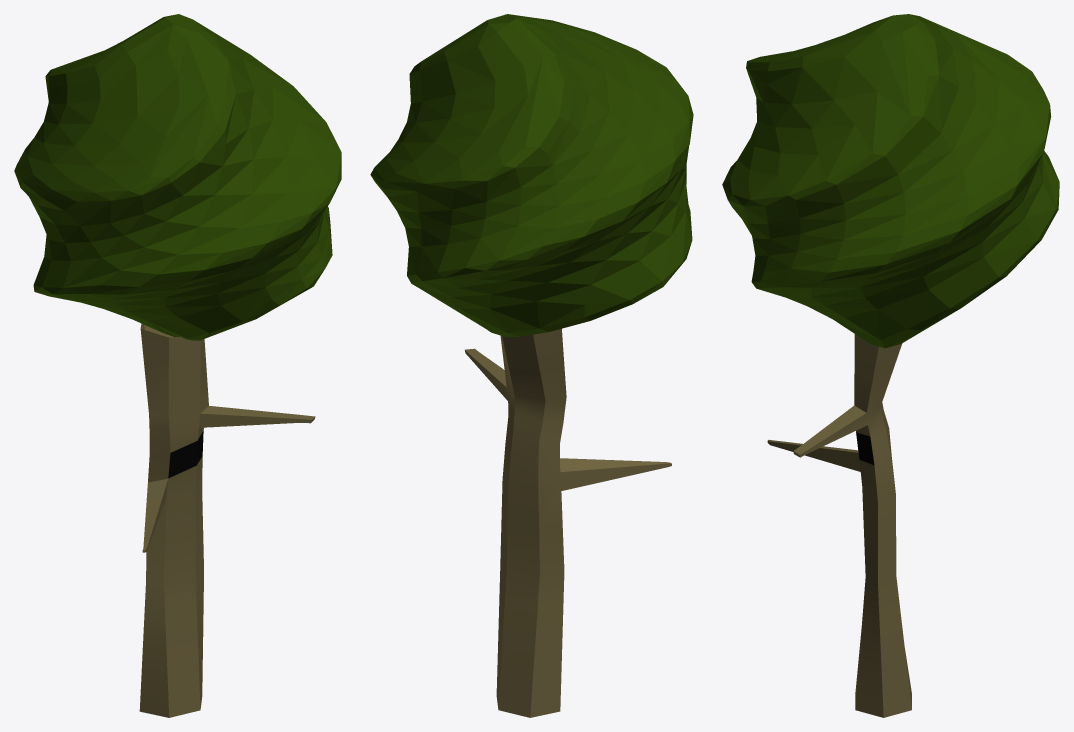
File: tree_1.fbx
3 renders of one model, left to right at view 1: azimuth 30°, elevation 25°; view 2: azimuth 150°, elevation 25°; view 3: azimuth 270°, elevation 25°, orthographic. The views are drawn at different scales.
Parts seen in each view (by area): view 1: pCube6; view 2: pCube6; view 3: pCube6.
Boxes of the visible parts, x1,y1,x2,y2 form: pCube6: (14,14,341,717); pCube6: (370,14,693,717); pCube6: (722,14,1059,717).
Size of the model in its own units: 2.31 by 5.4 by 2.39.
